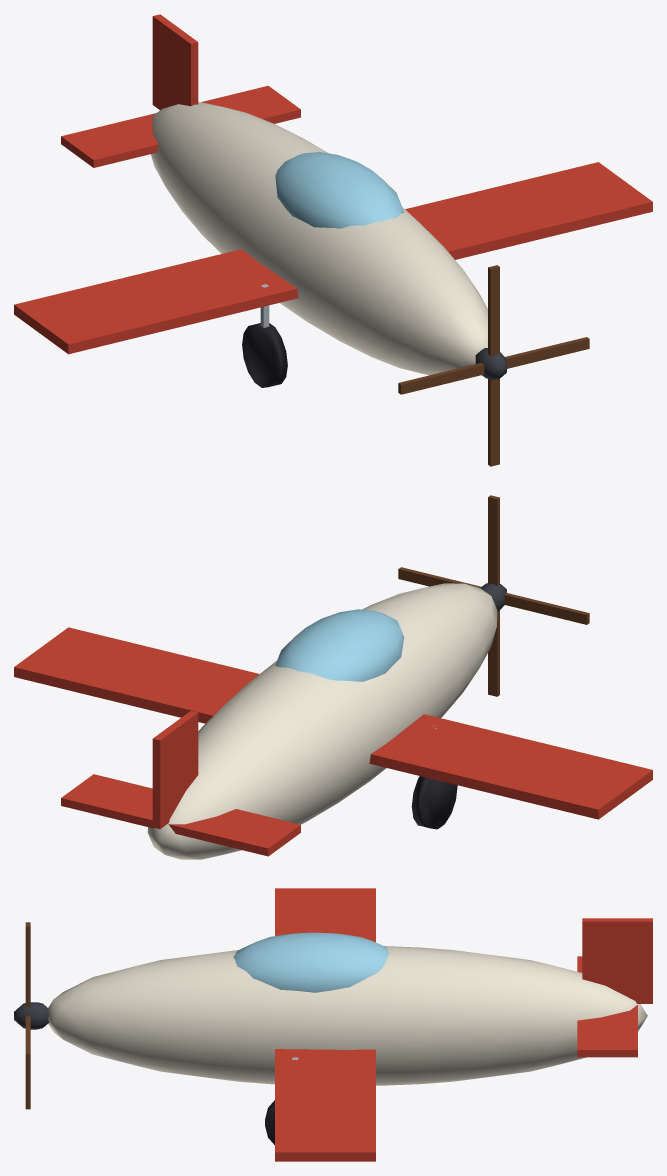
File: airplane.glb
3 renders of one model, top to bottom at view 1: azimuth 30°, elevation 25°; view 2: azimuth 150°, elevation 25°; view 3: azimuth 270°, elevation 25°, orthographic. The views are drawn at different scales.
Visible parts, largest first — view 1: body, propeller; view 2: body, propeller; view 3: body, propeller.
Boxes of the visible parts, box(x1,y1,x2,y2) form: body: box(14, 14, 652, 387); propeller: box(398, 265, 589, 466); body: box(14, 583, 652, 859); propeller: box(398, 495, 589, 696); body: box(48, 888, 652, 1161); propeller: box(14, 922, 49, 1109).
Size of the model in its own units: 6.2 by 2.09 by 6.34.
